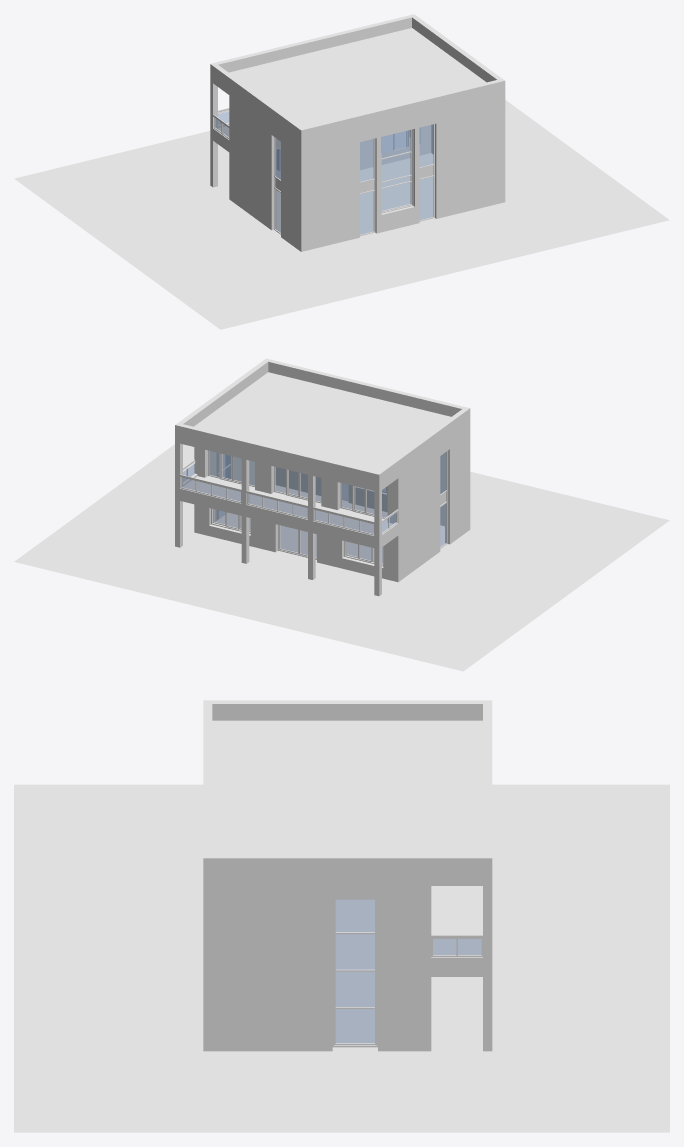
The picture shows the model from 3 angles, top to bottom: view 1: azimuth 30°, elevation 25°; view 2: azimuth 150°, elevation 25°; view 3: azimuth 270°, elevation 25°; orthographic projection. The views are drawn at different scales.
Parts seen in each view (by area): view 1: Root Node, 4861, 4871, Component#2 (×3), Component#4, C1, W4; view 2: Root Node, 4871, 4861, 5083, C1 (×4), W5 (×3), g (×3), W4 (×2), Door, Component#2; view 3: Root Node, 4871, 4861, Component#3, 5083, C1, Component#1.
Part boxes in pixels (x1,y1,x2,y2): Root Node: (14,100,669,329); 4861: (229,95,505,251); 4871: (210,14,505,147); Component#2 (×3): (274,124,434,236); Component#4: (381,129,413,213); C1: (210,74,217,187); W4: (381,127,421,154); Root Node: (14,444,669,671); 4871: (175,358,470,490); 4861: (194,426,470,582); 5083: (180,474,398,547); C1 (×4): (175,435,381,596); W5 (×3): (208,450,387,519); g (×3): (180,477,374,535); W4 (×2): (211,508,383,566); Door: (278,525,316,559); Component#2: (440,451,447,548); Root Node: (14,784,669,1132); 4871: (203,700,492,885); 4861: (203,886,431,1051); Component#3: (332,899,377,1047); 5083: (431,886,482,976); C1: (483,875,492,1051); Component#1: (431,938,482,956).
Bounding box in the file's own units: 27.09 × 7 × 21.57.
